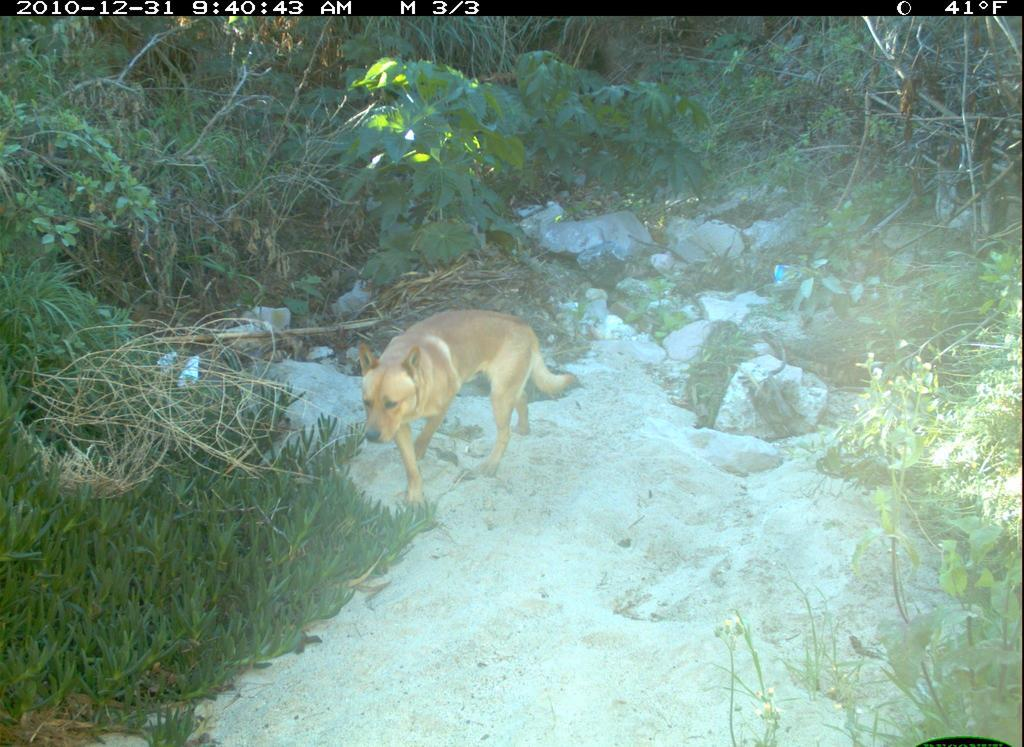dog: (354, 305, 585, 514)
